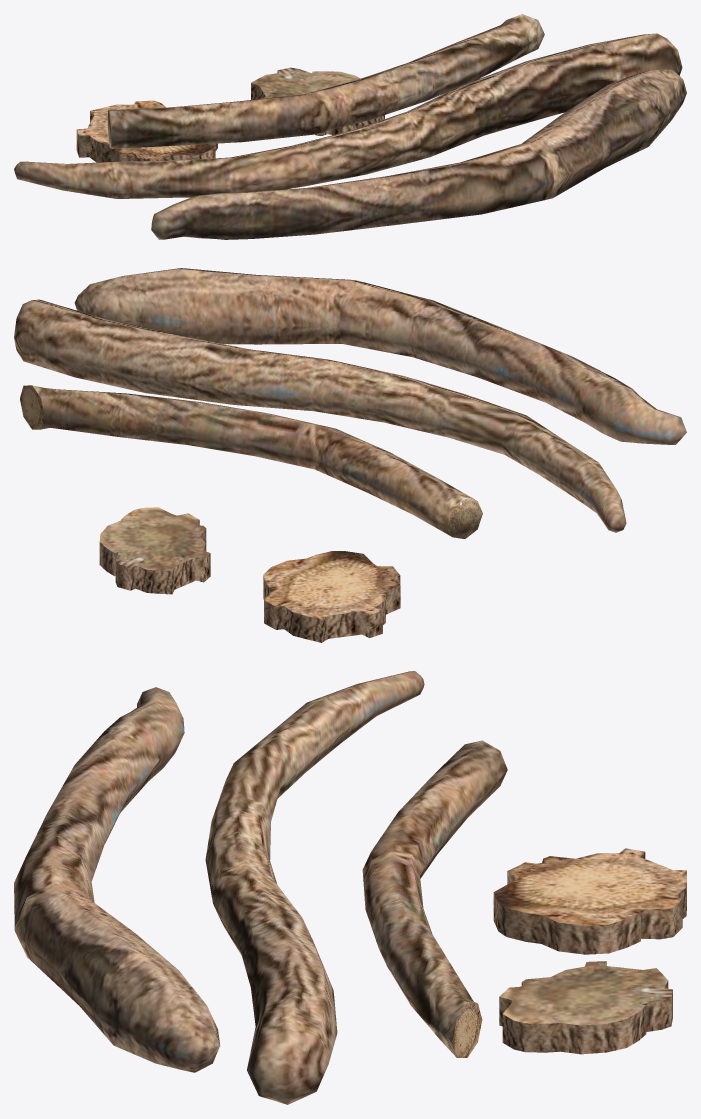
File: xuduan.FBX
3 renders of one model, top to bottom at view 1: azimuth 30°, elevation 25°; view 2: azimuth 150°, elevation 25°; view 3: azimuth 270°, elevation 25°, orthographic. The views are drawn at different scales.
Parts seen in each view (by area): view 1: Cylinder003, Cylinder002, Cylinder001, Line001, Line002; view 2: Cylinder003, Cylinder002, Cylinder001, Line001, Line002; view 3: Cylinder003, Cylinder002, Cylinder001, Line001, Line002.
Boxes of the visible parts, x1=… form: Cylinder003: x1=151, y1=69, x2=686, y2=239; Cylinder002: x1=14, y1=33, x2=682, y2=198; Cylinder001: x1=107, y1=14, x2=544, y2=148; Line001: x1=76, y1=100, x2=217, y2=162; Line002: x1=251, y1=67, x2=384, y2=135; Cylinder003: x1=74, y1=268, x2=686, y2=444; Cylinder002: x1=14, y1=299, x2=626, y2=532; Cylinder001: x1=20, y1=385, x2=482, y2=538; Line001: x1=263, y1=551, x2=400, y2=642; Line002: x1=99, y1=507, x2=210, y2=594; Cylinder003: x1=14, y1=687, x2=220, y2=1072; Cylinder002: x1=205, y1=671, x2=424, y2=1104; Cylinder001: x1=362, y1=740, x2=507, y2=1057; Line001: x1=493, y1=848, x2=686, y2=954; Line002: x1=499, y1=961, x2=672, y2=1054.
Size of the model in its own units: 44.44 by 8.1 by 31.76.
Materials: 1 (1 with a texture image).
